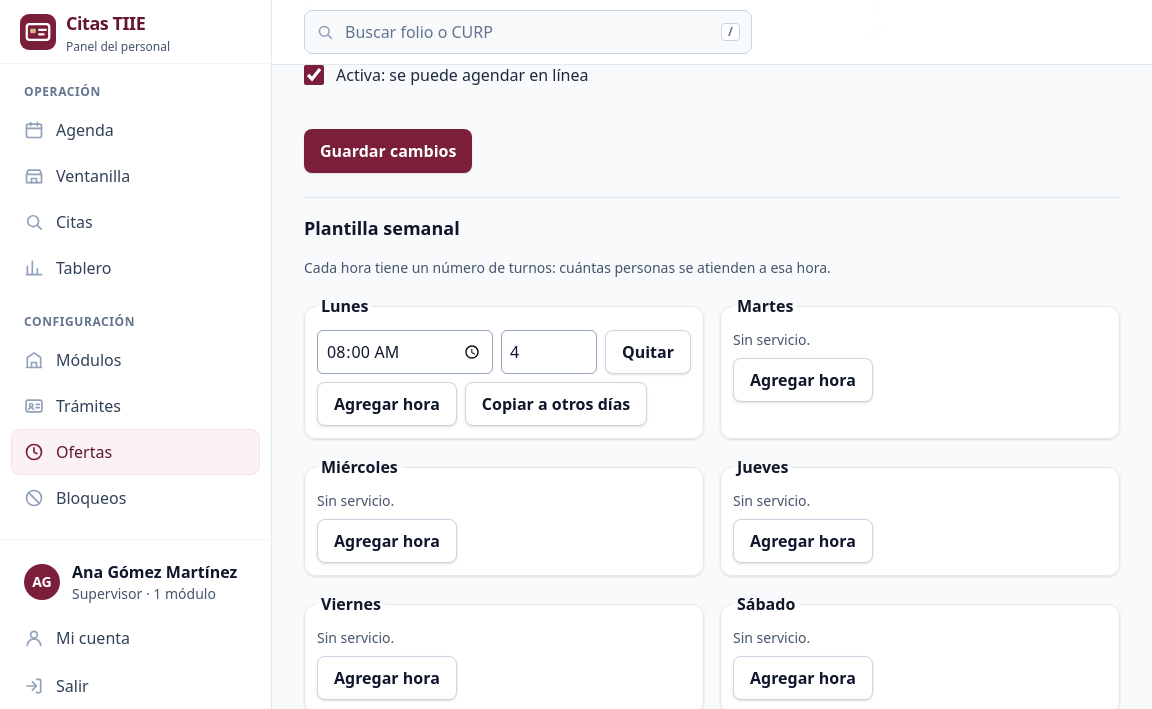
Scenario: Plantilla semanal › agrega una hora, copia el lunes al martes, guarda y muestra el resumen
(page scrolled)
Click the button with aria-label "Agregar hora al lunes" at point(387, 404), box 317,382 -> 457,426
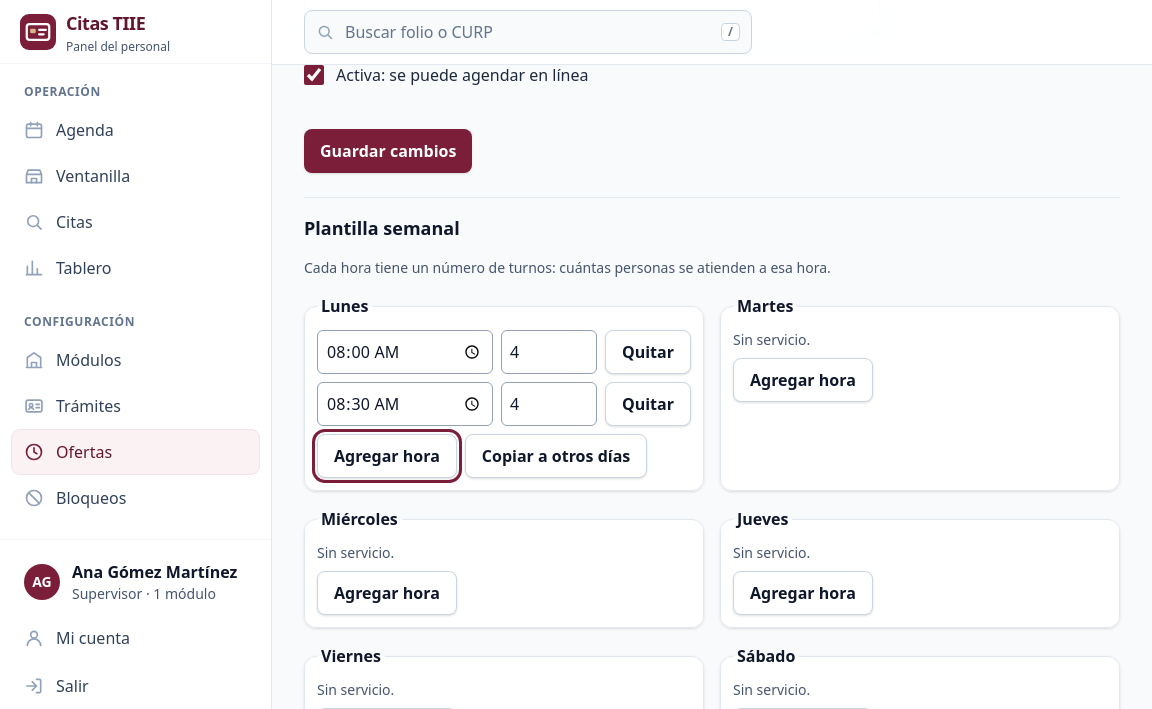
Check: the time field named "Hora 2 del lunes" holds "08:30", box 317,382 -> 493,426
Check: the number field named "Turnos de la hora 2 del lunes" holds "4", box 501,382 -> 597,426
Click the button with aria-label "Copiar el lunes a otros días" at point(556, 456), box 465,434 -> 647,478
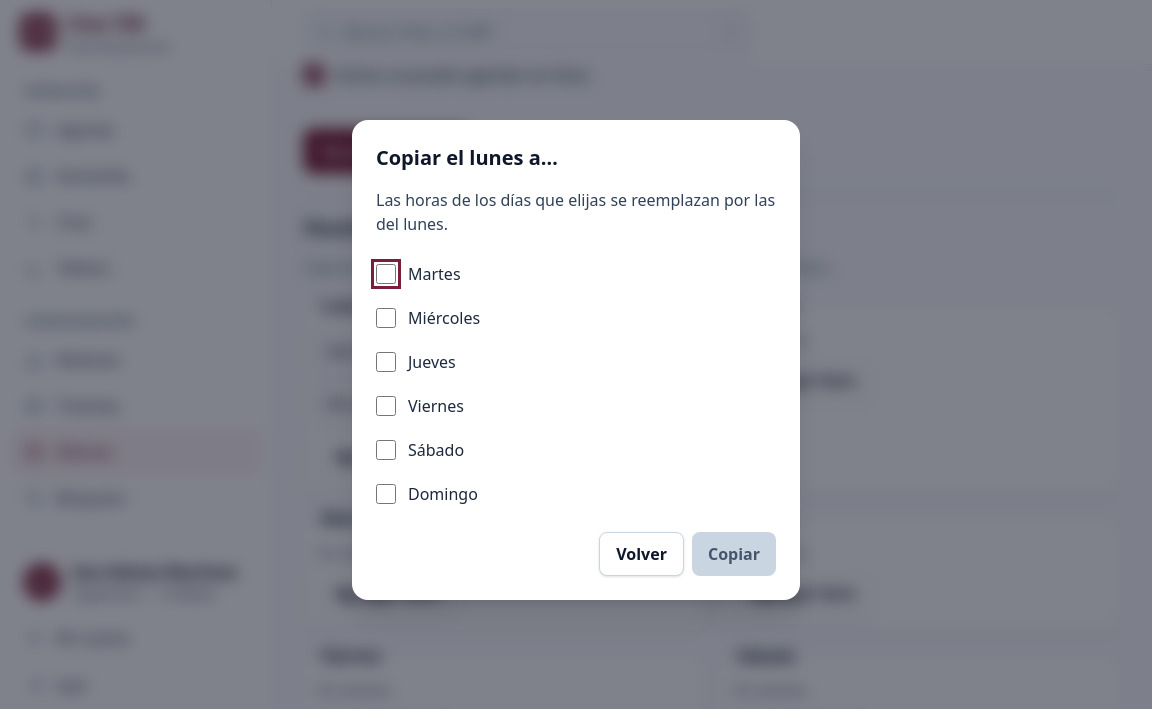
Click the checkbox labelled "Martes" at point(386, 274), box 376,264 -> 396,284
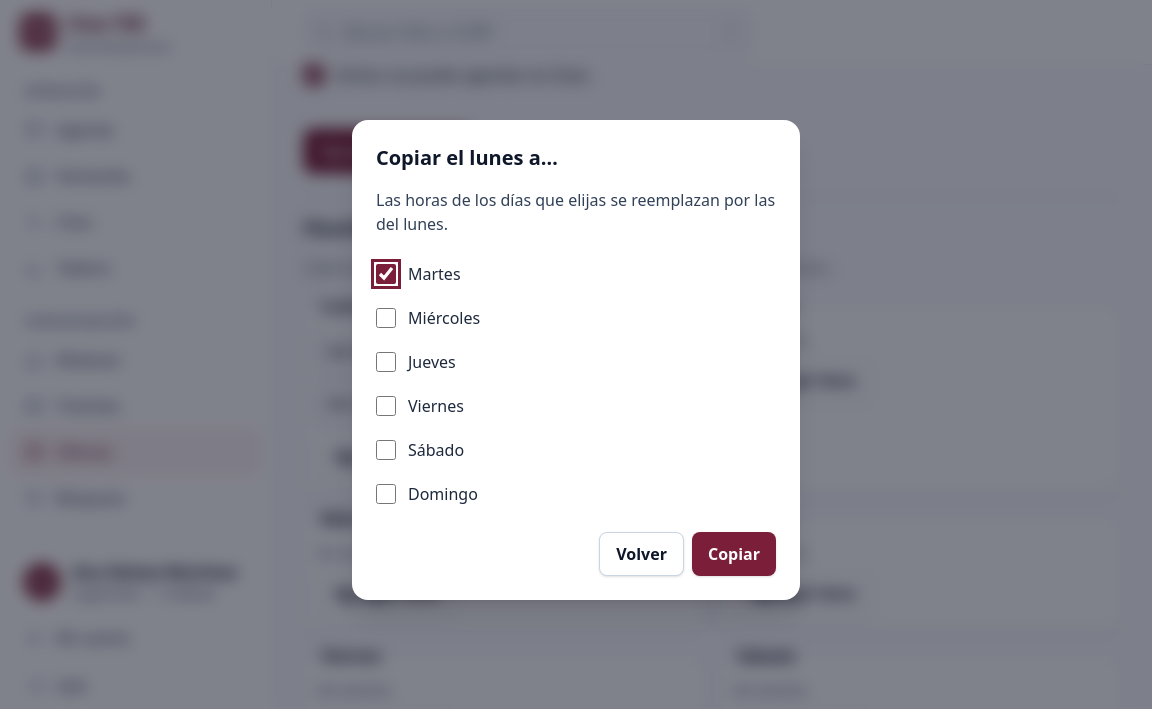
Click the button "Copiar" at point(734, 554), box 692,532 -> 776,576
(page scrolled)
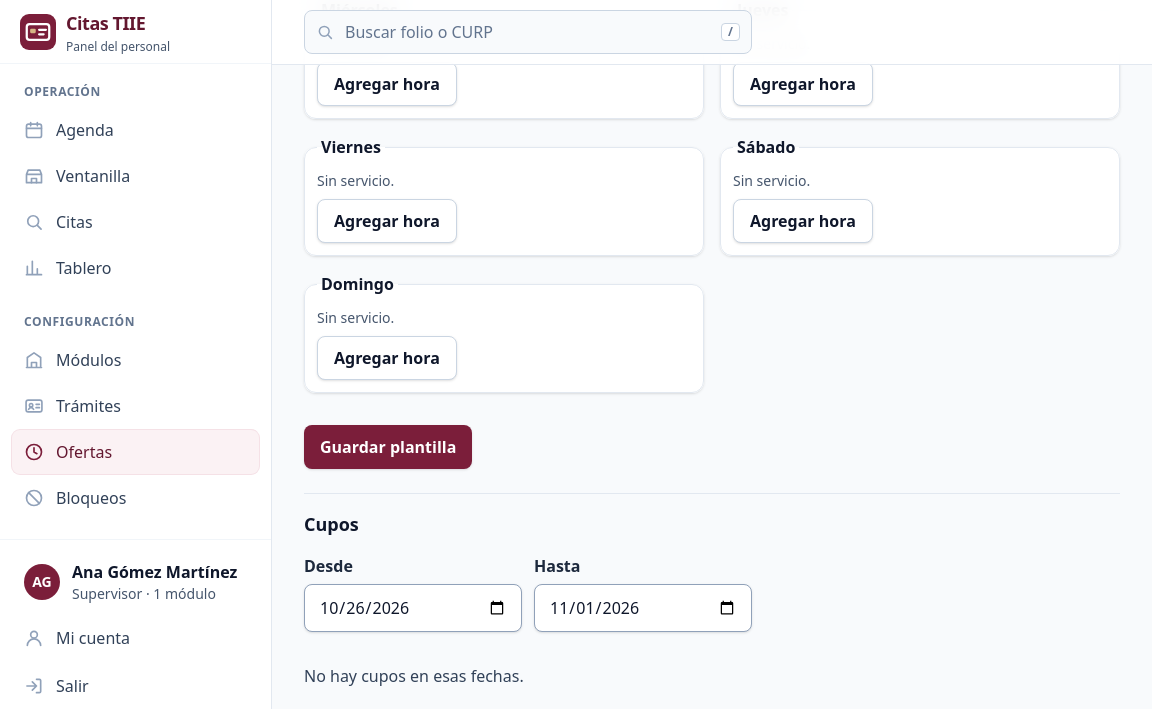
Click the button "Guardar plantilla" at point(388, 447), box 304,425 -> 472,469
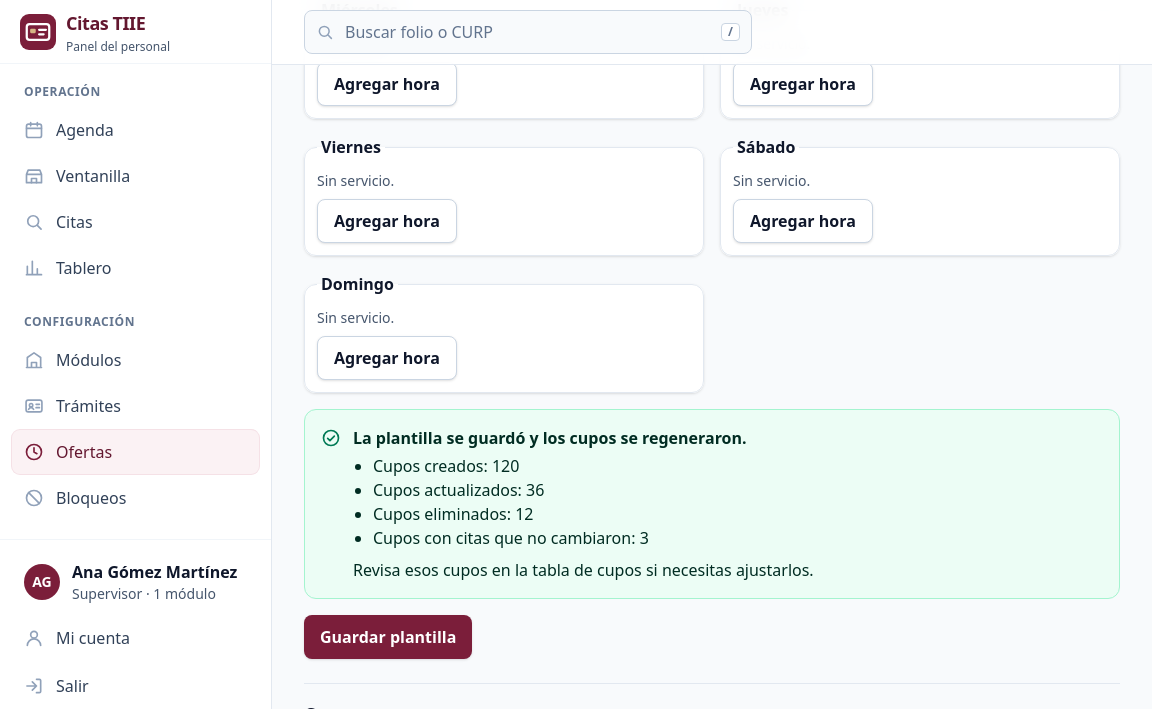
Check: the text "La plantilla se guardó y los cupos se regeneraron." is shown, box 353,427 -> 747,449
Check: the list item "Cupos creados: 120" is shown, box 373,455 -> 519,477
Check: the list item "Cupos con citas que no cambiaron: 3" is shown, box 373,527 -> 649,549
